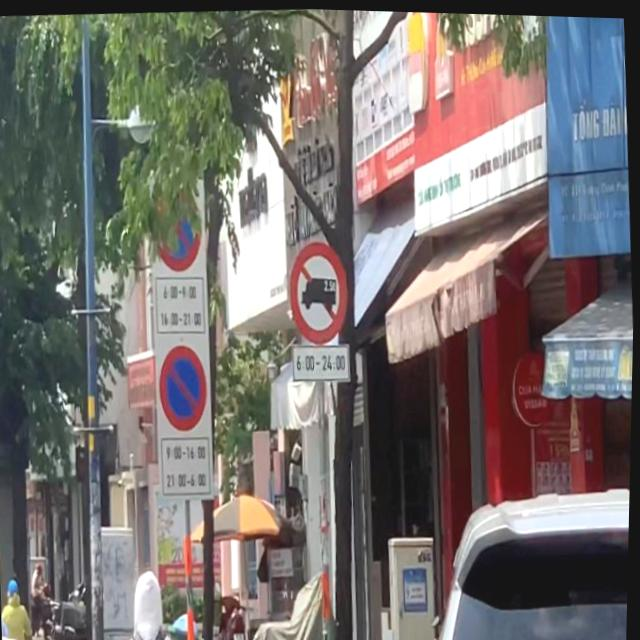Cam do xe: (158, 342, 212, 433)
Cam dung xe va do xe: (153, 182, 205, 272)
Cam xe tai tren 2_5: (287, 237, 353, 345)
